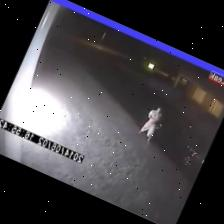person: (138, 108, 160, 140)
